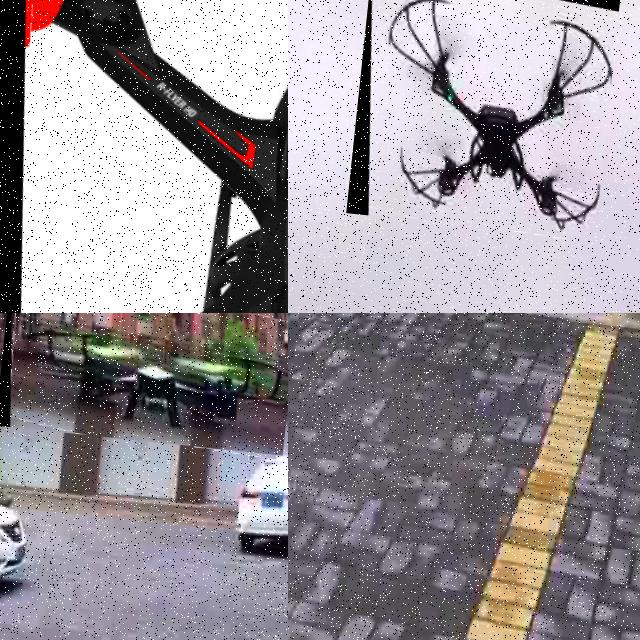drone: (0, 0, 288, 313), (345, 0, 620, 239), (0, 313, 288, 455)
